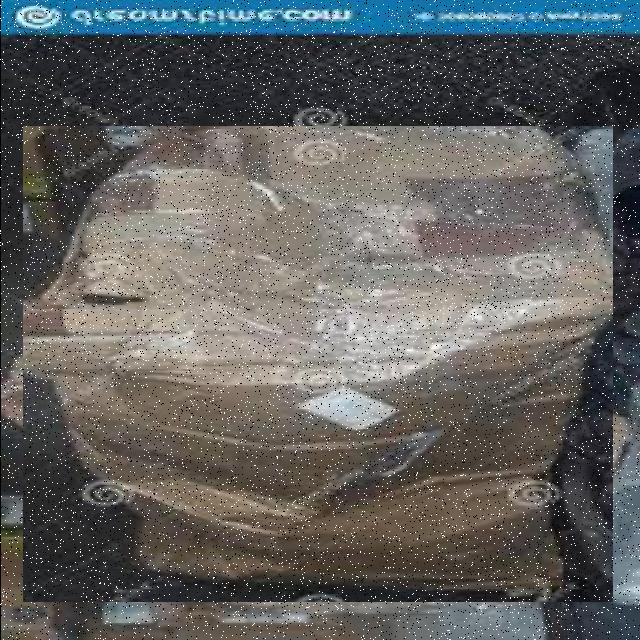defect: (22, 126, 612, 602)
